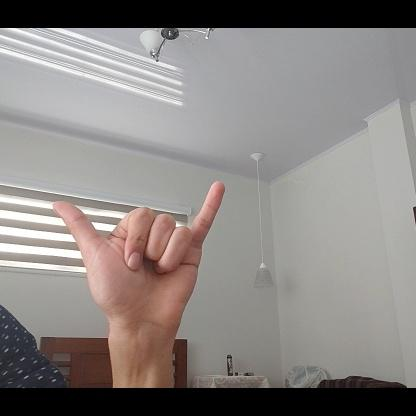Y: (51, 179, 228, 336)
